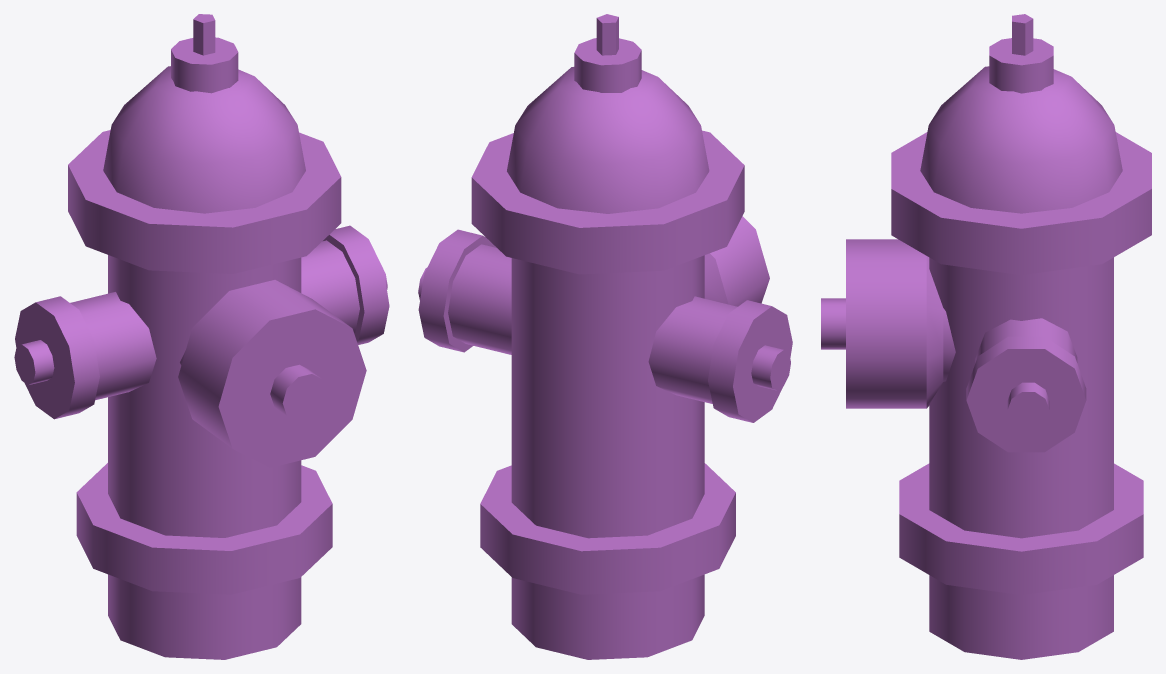
Rendered from FireHydrant.fbx.
The picture shows the model from 3 angles, left to right: view 1: azimuth 30°, elevation 25°; view 2: azimuth 150°, elevation 25°; view 3: azimuth 270°, elevation 25°; orthographic projection.
Visible parts, largest first — view 1: FireHydrant; view 2: FireHydrant; view 3: FireHydrant.
Boxes of the visible parts, x1=… form: FireHydrant: x1=14, y1=14, x2=389, y2=659; FireHydrant: x1=418, y1=14, x2=792, y2=659; FireHydrant: x1=821, y1=14, x2=1151, y2=659.
Bounding box in the file's own units: 59.59 × 97.19 × 48.55.
